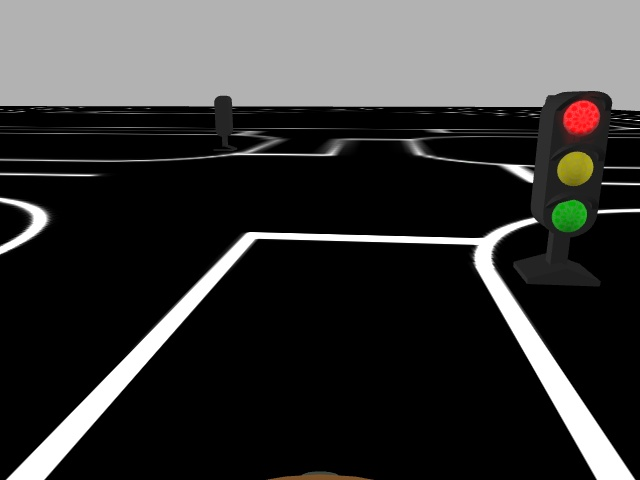red_light: (544, 90, 608, 237)
